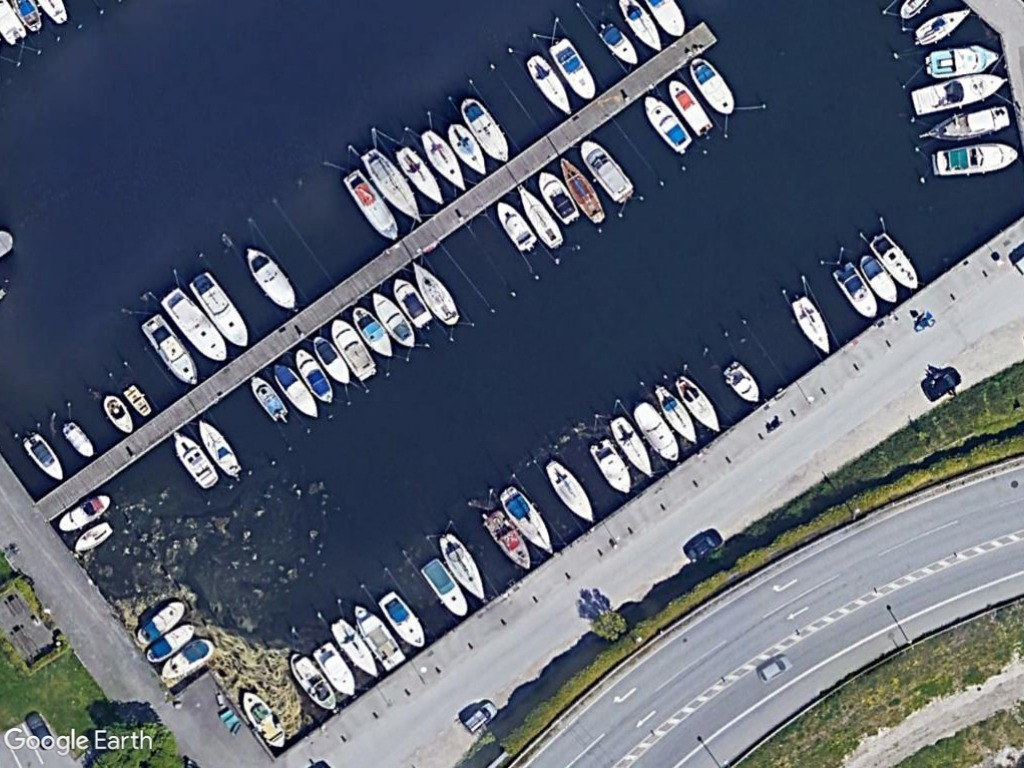boat: (187, 266, 256, 356), (160, 284, 231, 370), (357, 147, 429, 229), (138, 311, 203, 391), (337, 168, 401, 246), (908, 71, 1009, 118), (496, 484, 560, 558), (915, 101, 1015, 147), (241, 241, 300, 314), (351, 601, 409, 675), (405, 255, 462, 327), (543, 34, 600, 106), (457, 92, 512, 166), (390, 142, 449, 210), (926, 140, 1019, 183), (513, 177, 565, 252), (436, 531, 488, 605), (543, 456, 597, 527), (522, 51, 577, 120), (866, 228, 923, 294), (285, 647, 341, 714), (556, 151, 606, 226), (638, 92, 697, 155), (577, 137, 633, 203), (417, 126, 471, 194), (417, 555, 471, 622), (328, 614, 382, 681), (192, 412, 245, 479), (327, 315, 379, 383), (630, 397, 681, 466), (607, 412, 658, 481), (828, 258, 881, 323), (670, 371, 723, 436), (375, 586, 428, 651), (366, 284, 416, 352), (651, 382, 703, 447), (267, 359, 321, 421), (922, 40, 1002, 81), (787, 291, 836, 357), (664, 75, 715, 138), (482, 508, 531, 573), (584, 435, 633, 499), (170, 429, 219, 491), (688, 52, 734, 118), (16, 428, 69, 485), (311, 638, 357, 703), (240, 689, 288, 751), (348, 299, 394, 362), (444, 121, 492, 181), (293, 339, 335, 407), (157, 635, 214, 685), (909, 3, 972, 48), (133, 596, 188, 647), (390, 273, 433, 337), (142, 617, 199, 665), (56, 487, 113, 534), (535, 166, 579, 226), (493, 197, 538, 255), (311, 329, 354, 389), (594, 19, 643, 68), (722, 358, 763, 409), (247, 373, 288, 424), (858, 251, 897, 304), (71, 516, 114, 557), (100, 391, 139, 436), (57, 419, 97, 461)
car: (918, 366, 965, 404), (682, 526, 724, 565), (462, 696, 500, 735), (752, 654, 795, 687)
